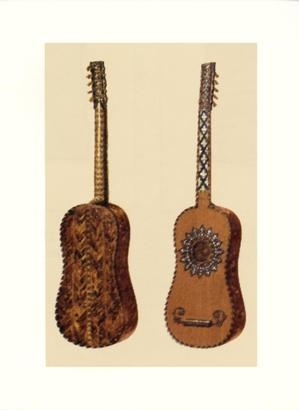guitar: (54, 61, 138, 346), (165, 63, 247, 350)
